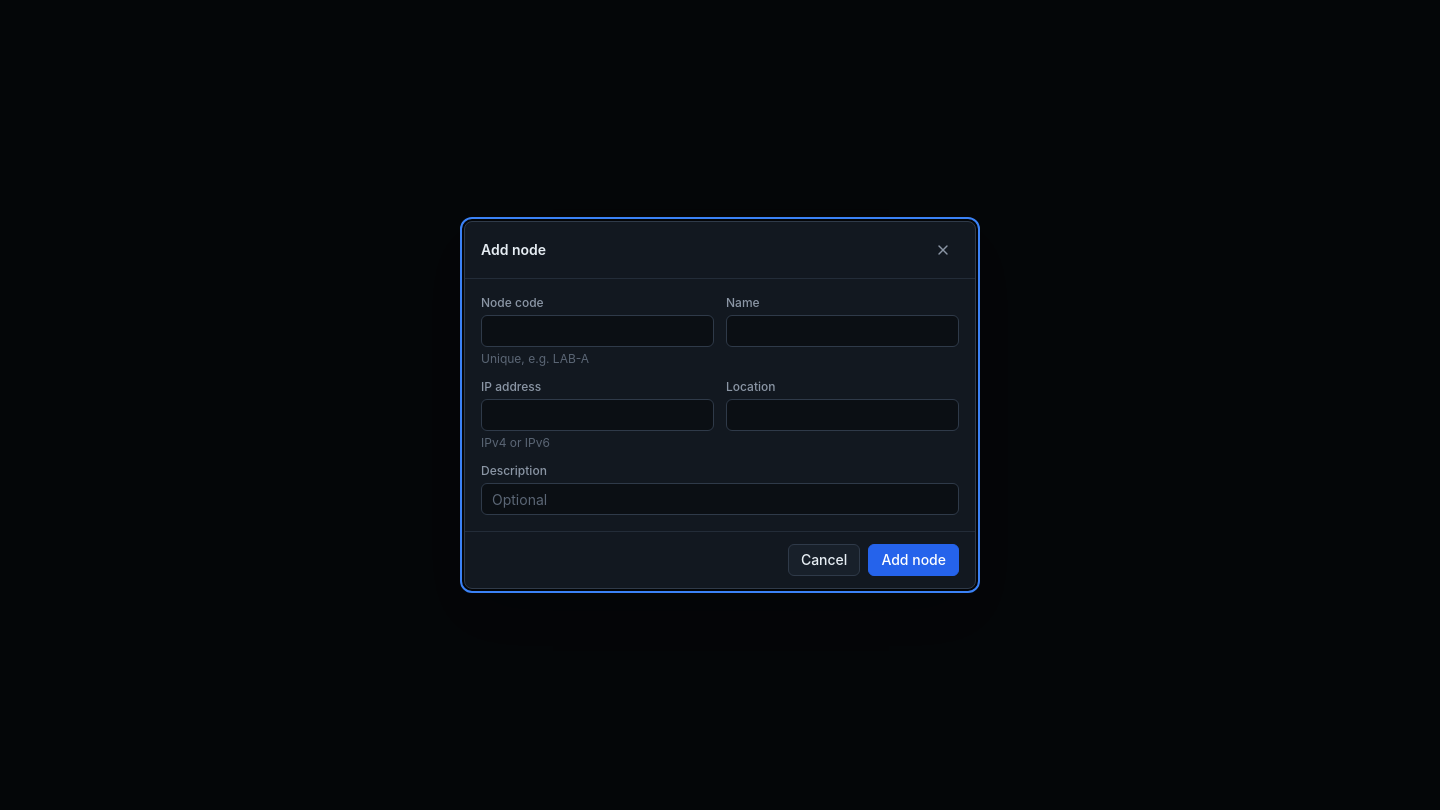
Test: NodeFormModal › validates required fields before sending anything
The image size is (1440, 810).
Click the button "Add node": [914, 560] box [868,544,959,576]
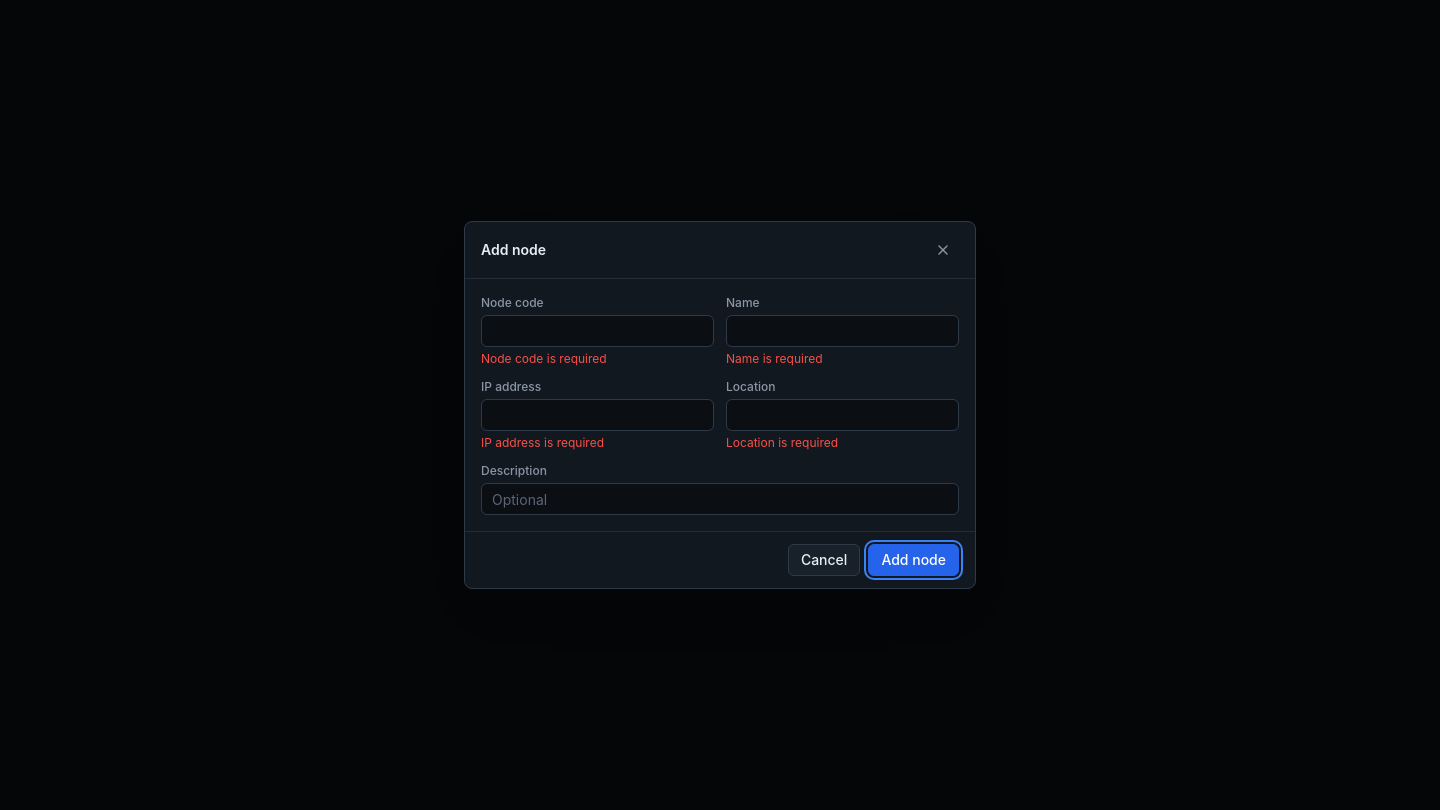
Check: the text "Node code is required" is shown, box [481,351,607,366]
Check: the text "Name is required" is shown, box [726,351,823,366]
Check: the text "IP address is required" is shown, box [481,435,604,450]
